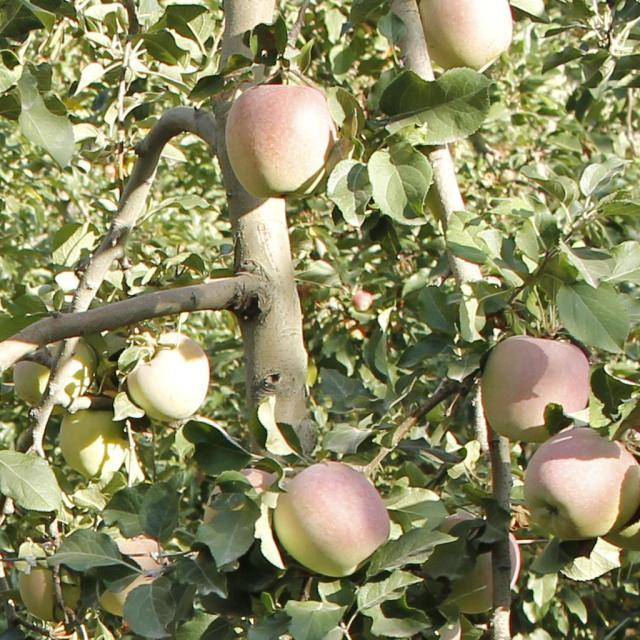apple: (274, 462, 389, 577), (524, 428, 639, 539), (226, 85, 334, 198), (480, 336, 589, 442), (127, 332, 209, 421), (420, 0, 511, 68), (58, 410, 127, 482)
